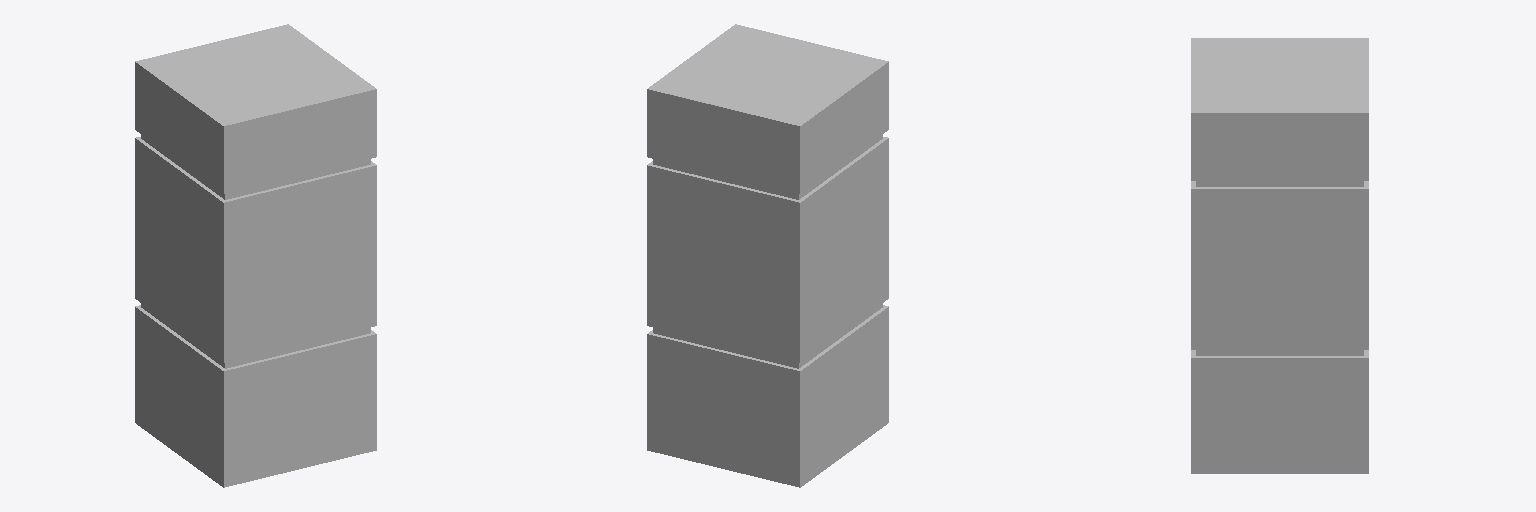
Rendered from Pillar.obj.
3 views of the same model, side by side, from view 1: azimuth 30°, elevation 25°; view 2: azimuth 150°, elevation 25°; view 3: azimuth 270°, elevation 25° (orthographic).
Parts seen in each view (by area): view 1: Pillar; view 2: Pillar; view 3: Pillar.
Part boxes in pixels (x1,y1,x2,y2): Pillar: (135, 24, 376, 487); Pillar: (647, 24, 888, 487); Pillar: (1191, 38, 1368, 473).
Size of the model in its own units: 40 by 90 by 40.